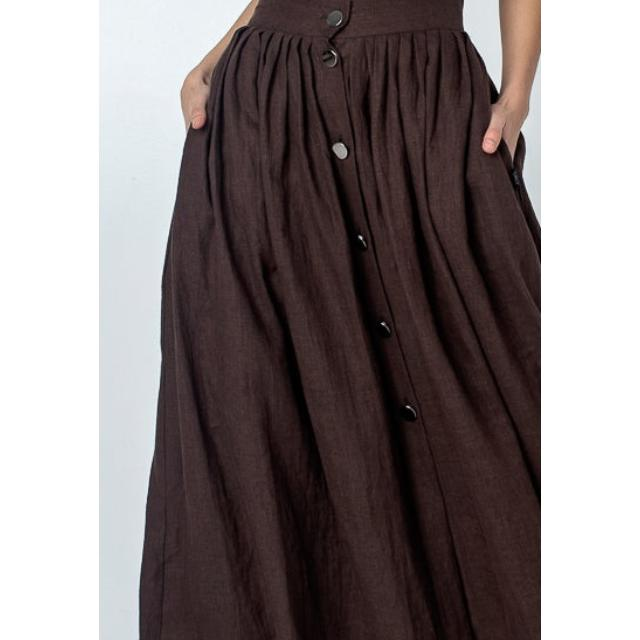linen: (143, 0, 541, 640)
